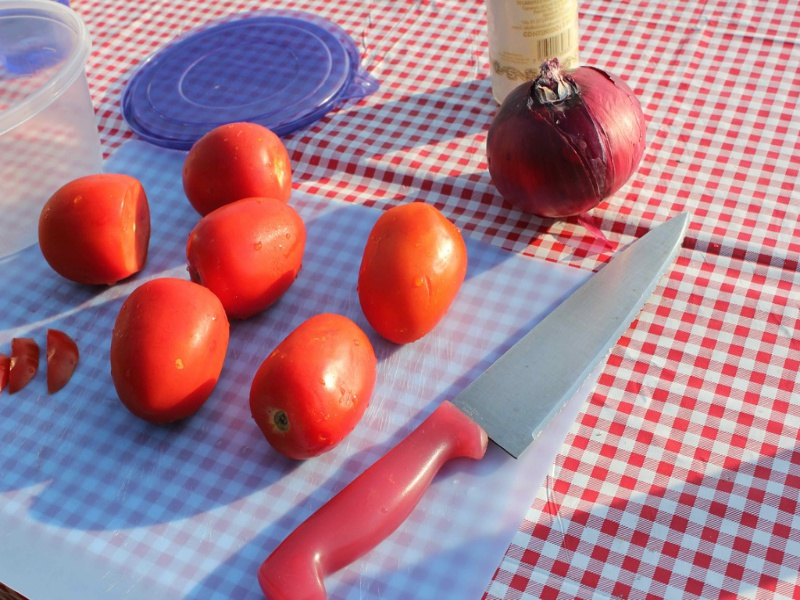knife: (257, 206, 697, 600)
